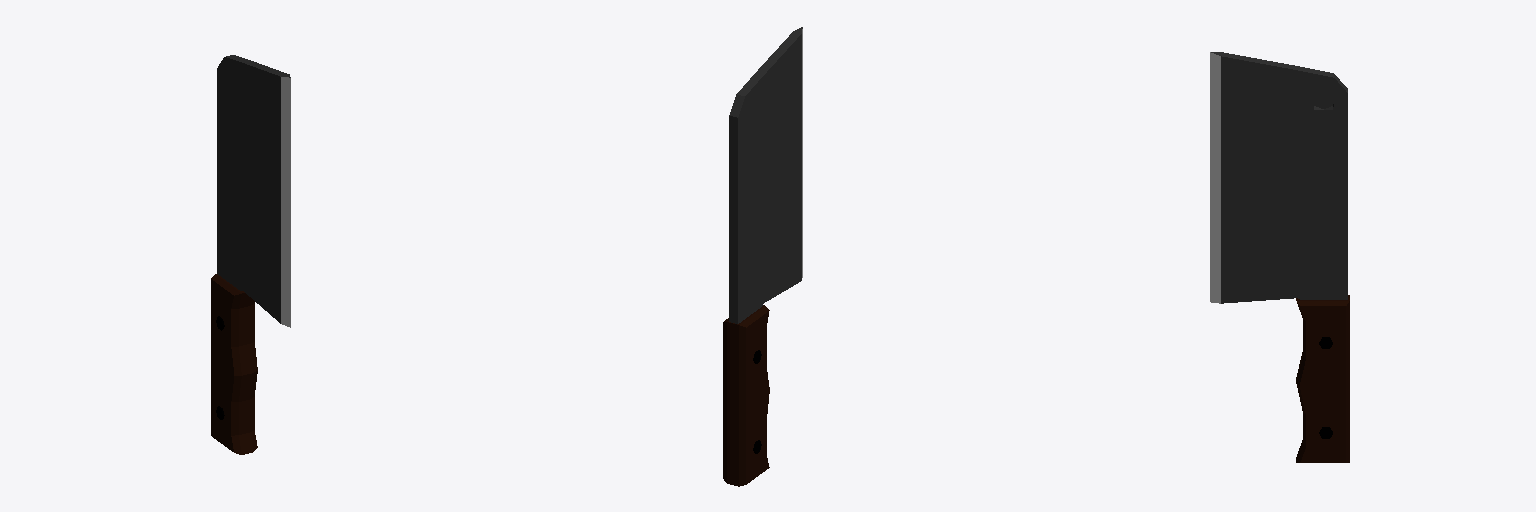
Rendered from Cleaver.obj.
3 renders of one model, left to right at view 1: azimuth 30°, elevation 25°; view 2: azimuth 150°, elevation 25°; view 3: azimuth 270°, elevation 25°, orthographic.
Visible parts, largest first — view 1: Cleaver_Plane; view 2: Cleaver_Plane; view 3: Cleaver_Plane.
Part boxes in pixels (x1,y1,x2,y2): Cleaver_Plane: (211, 55, 290, 454); Cleaver_Plane: (723, 27, 802, 486); Cleaver_Plane: (1210, 52, 1349, 462).
Bounding box in the file's own units: 0.0236 × 0.3441 × 0.1065.